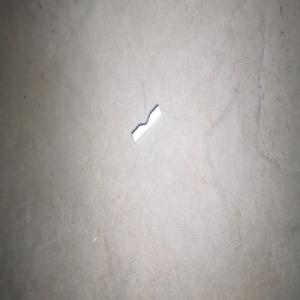ClampPart: (131, 104, 162, 143)
